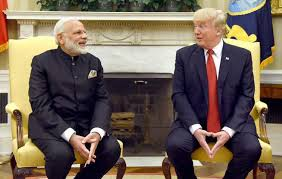Caution: (25, 8, 259, 179)
